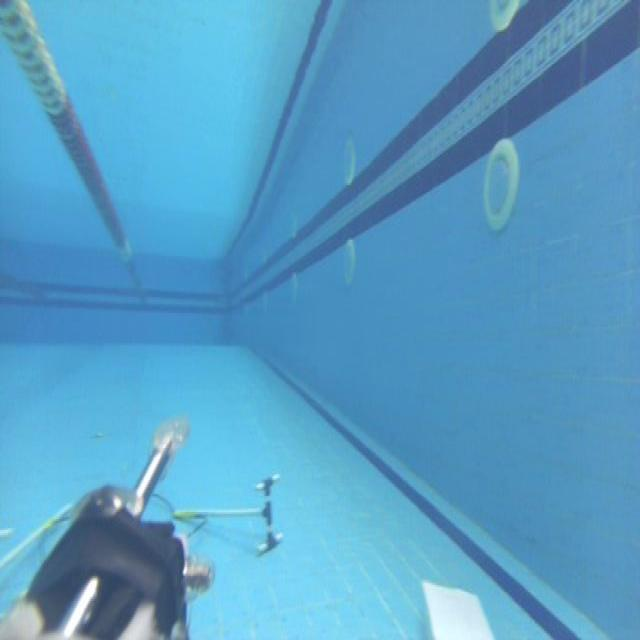Cuboid: (419, 576, 495, 636)
